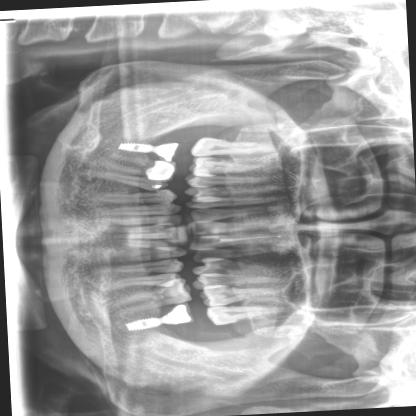Bicon: (104, 133, 158, 163), (120, 308, 168, 336)
